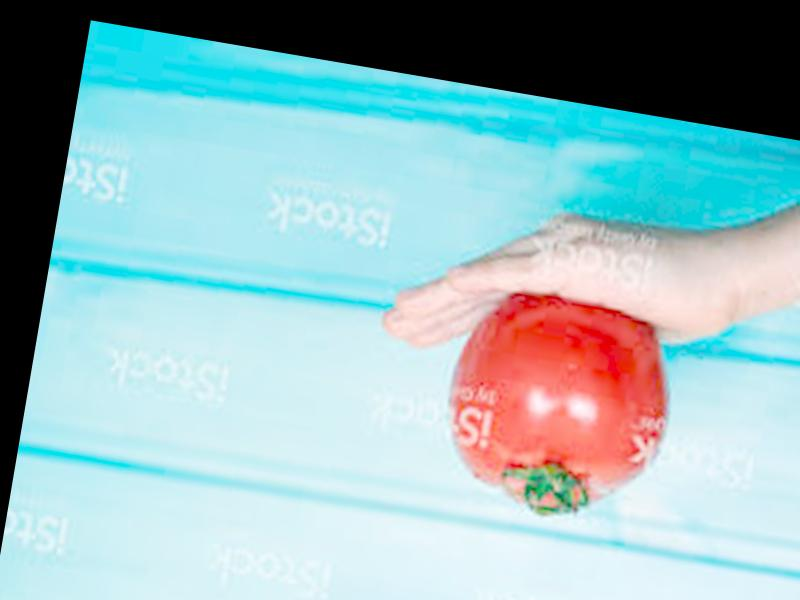Tomato: (431, 280, 680, 529)
